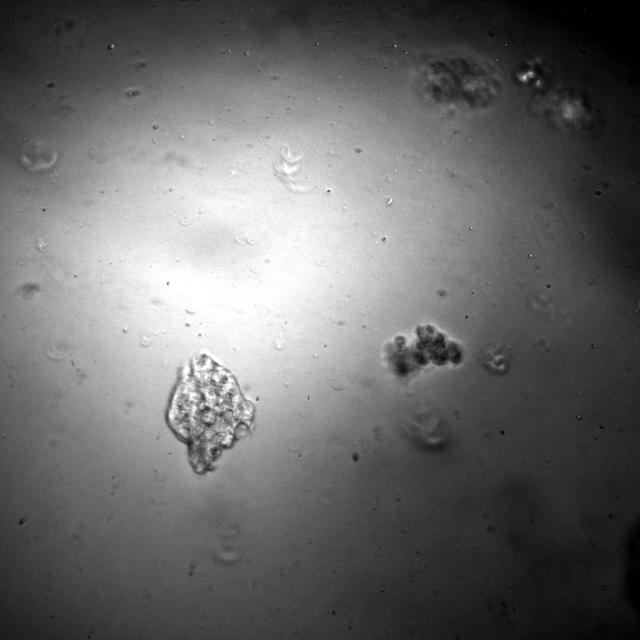organoid: (168, 349, 254, 473), (514, 58, 592, 129), (411, 56, 501, 115), (383, 323, 462, 376), (478, 343, 511, 375)
